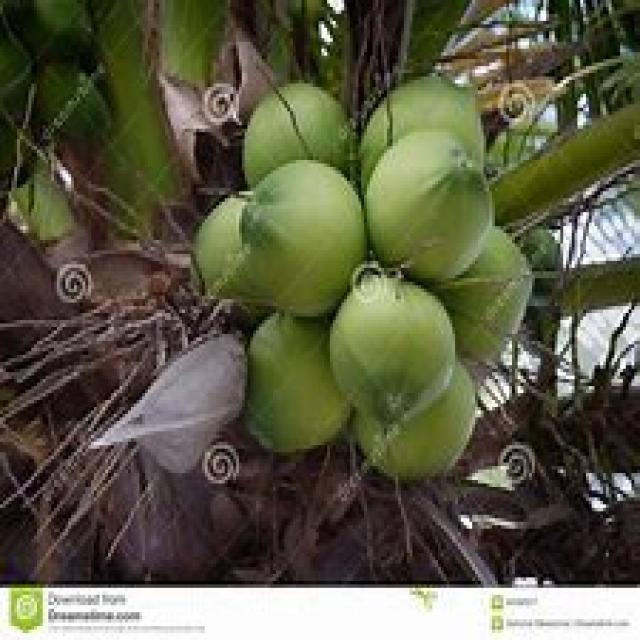coconuts: (202, 72, 528, 478)
